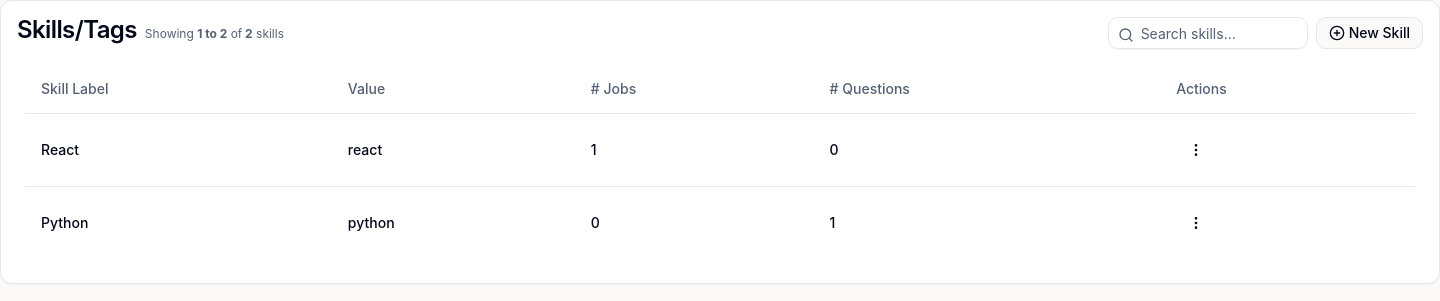
Scenario: TagsContainer Search Functionality › Search Input › should display filtered skills after search
Expected: the text "React" is shown, [25,113,332,186]
Expected: the text "Python" is shown, [25,186,332,258]
Type "Python" into the search field with placeholder "Search skills..." at (1208, 33), box [1108,17,1308,49]
Wait 300 ms
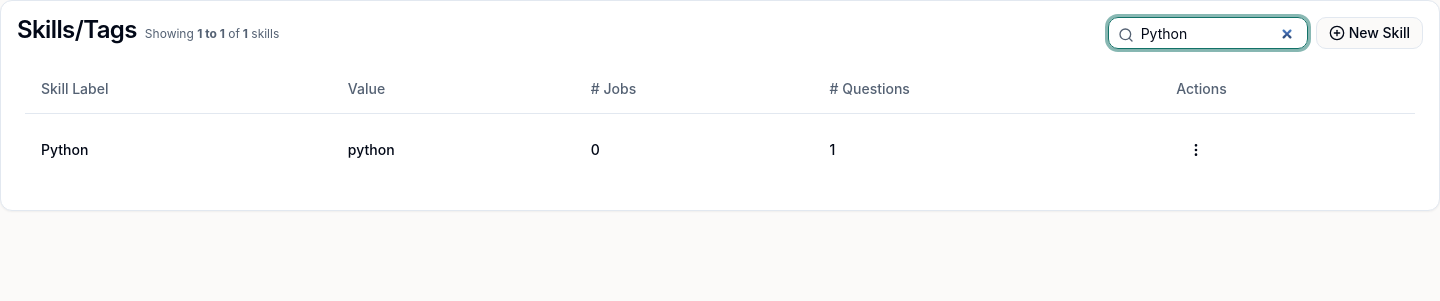
Expected: the text "Python" is shown, [25,113,332,186]
Expected: the text "React" is gone
